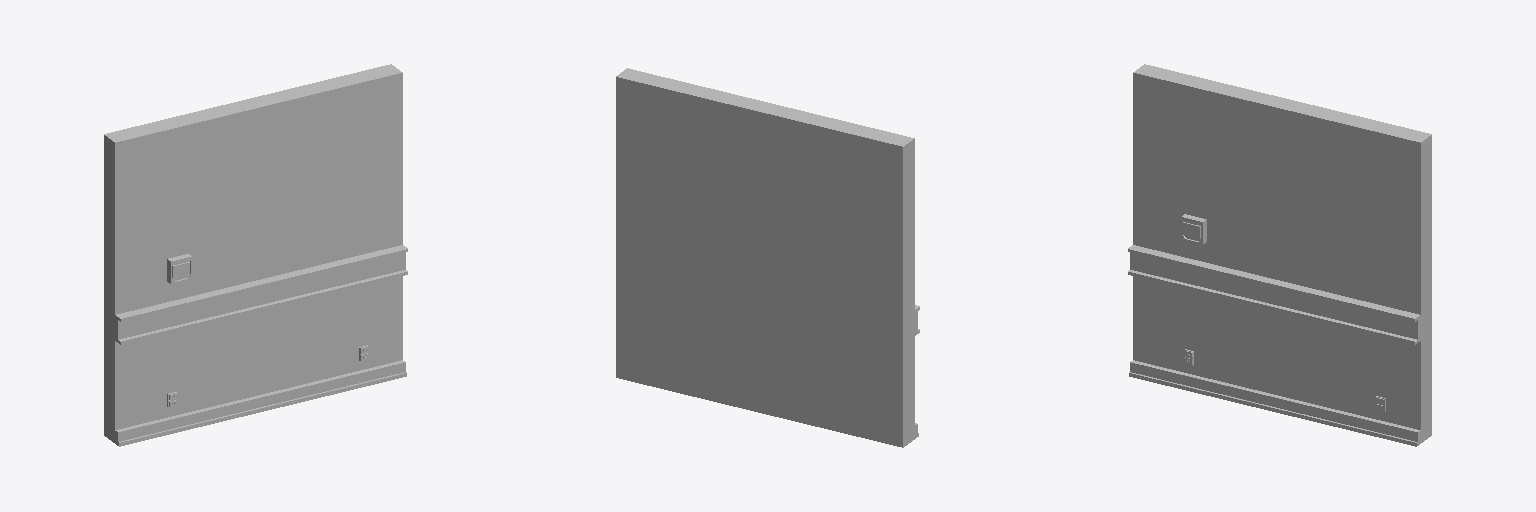
File: Texture_Ready_Arcade_Wall_Straight.obj
3 renders of one model, left to right at view 1: azimuth 30°, elevation 25°; view 2: azimuth 150°, elevation 25°; view 3: azimuth 330°, elevation 25°, orthographic.
Visible parts, largest first — view 1: Arcade_Wall_Straight pCube1, pCube9, Arcade_Wall_Straight pCube2, pCube3 Arcade_Wall_Straight, Arcade_Wall_Straight pCube4; view 2: Arcade_Wall_Straight pCube1; view 3: Arcade_Wall_Straight pCube1, pCube9, Arcade_Wall_Straight pCube2, pCube3 Arcade_Wall_Straight, Arcade_Wall_Straight pCube4.
Boxes of the visible parts, box(x1,y1,x2,y2) form: Arcade_Wall_Straight pCube1: box(104, 64, 402, 442); pCube9: box(115, 245, 407, 344); Arcade_Wall_Straight pCube2: box(115, 360, 405, 445); pCube3 Arcade_Wall_Straight: box(118, 372, 406, 446); Arcade_Wall_Straight pCube4: box(167, 254, 192, 283); Arcade_Wall_Straight pCube1: box(616, 68, 914, 447); Arcade_Wall_Straight pCube1: box(1133, 64, 1431, 442); pCube9: box(1128, 245, 1420, 344); Arcade_Wall_Straight pCube2: box(1130, 360, 1420, 445); pCube3 Arcade_Wall_Straight: box(1129, 372, 1417, 446); Arcade_Wall_Straight pCube4: box(1181, 214, 1206, 244).
Bounding box in the file's own units: 592 × 592 × 61.35.